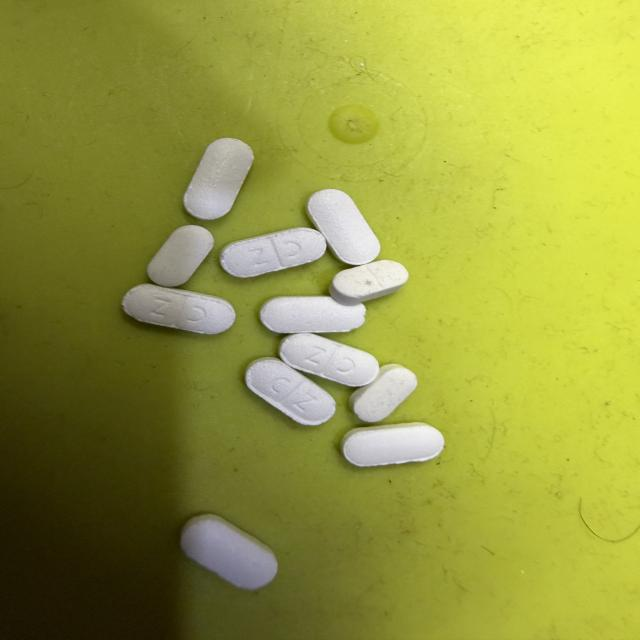pill: (181, 515, 277, 589), (246, 358, 335, 425), (123, 284, 235, 334), (184, 138, 253, 219), (307, 189, 380, 265), (220, 228, 326, 277), (280, 334, 379, 386), (342, 423, 444, 466), (148, 225, 213, 286), (350, 364, 417, 422), (260, 296, 365, 333), (330, 260, 408, 304)
